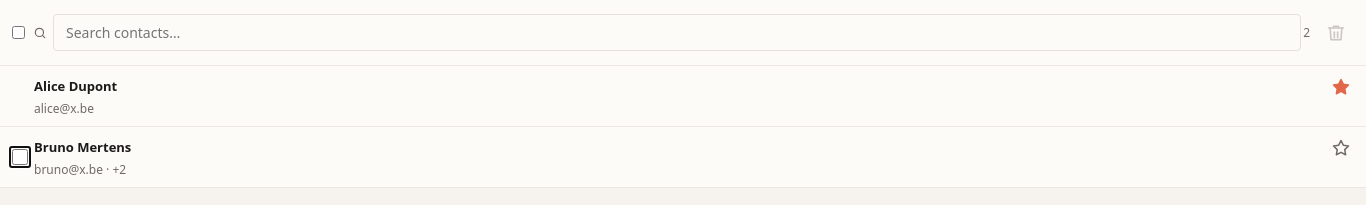
Scenario: the list as a grid › keeps a live tab stop when a filter removes the focused row
Type "dupont" into the search field at (677, 32), box x1=53 y1=14 x2=1301 y2=51
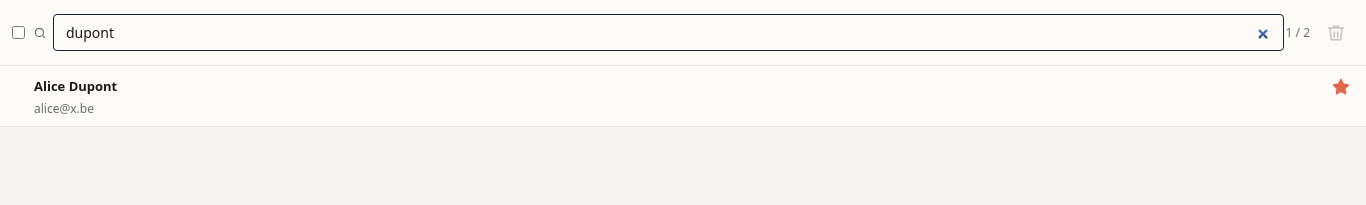
Check: the row with test id "contact-tile-b" is gone
